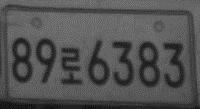3: (162, 41, 186, 89), (111, 40, 135, 86)
6: (87, 39, 109, 86)
8: (137, 40, 161, 87), (11, 36, 33, 85)
9: (35, 38, 57, 83)
로: (59, 46, 84, 86)
